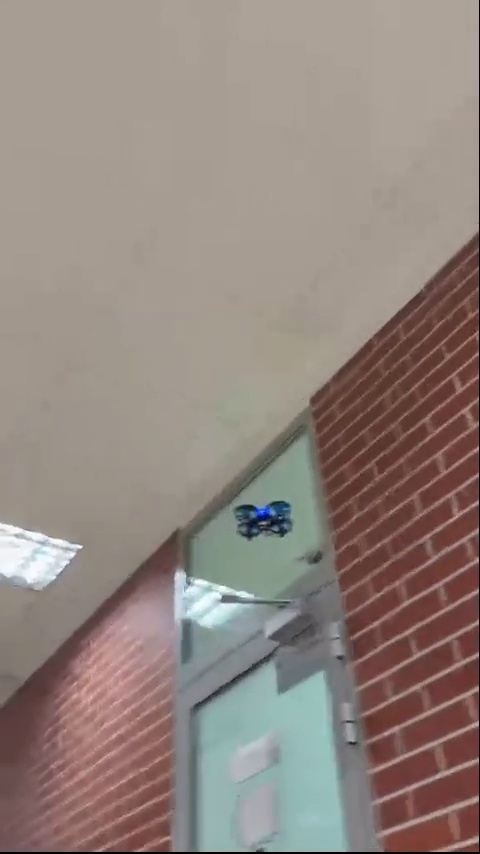drone: (236, 503, 295, 535)
